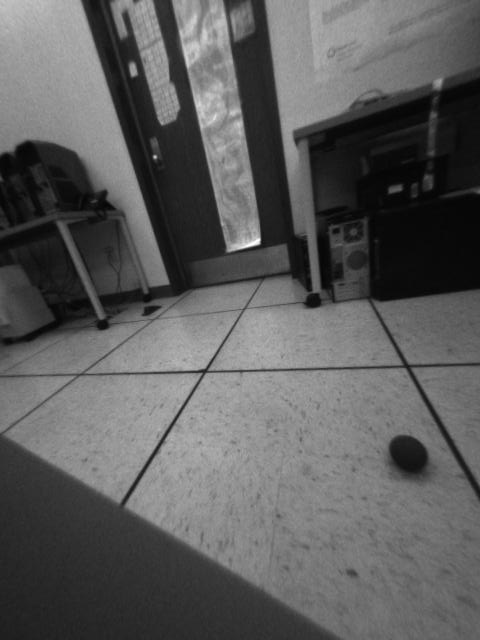dogtoy: (380, 427, 435, 482)
